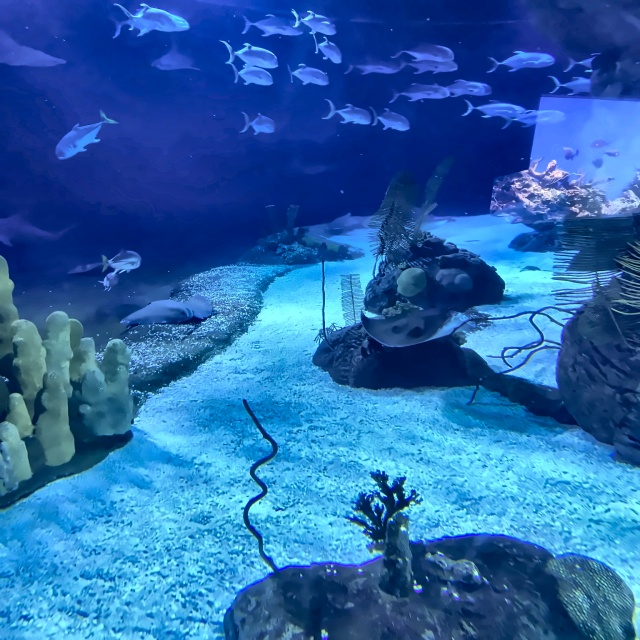fish: (54, 109, 118, 161), (101, 3, 189, 37), (220, 40, 278, 69), (114, 4, 177, 30), (486, 51, 555, 72), (240, 15, 304, 37), (499, 109, 565, 129), (460, 99, 527, 118), (391, 42, 454, 62), (321, 99, 371, 124), (103, 243, 142, 274), (390, 82, 449, 102), (227, 62, 274, 86), (344, 55, 400, 75), (285, 61, 329, 86), (368, 106, 410, 131), (395, 58, 458, 74), (311, 32, 342, 64), (293, 15, 338, 36), (240, 111, 277, 136), (447, 79, 492, 98), (550, 76, 592, 95), (564, 52, 601, 73), (328, 212, 370, 230), (98, 272, 122, 292)
shark: (0, 208, 78, 252), (1, 28, 66, 68), (148, 33, 205, 73)
stingray: (360, 308, 476, 348), (120, 294, 212, 324)
